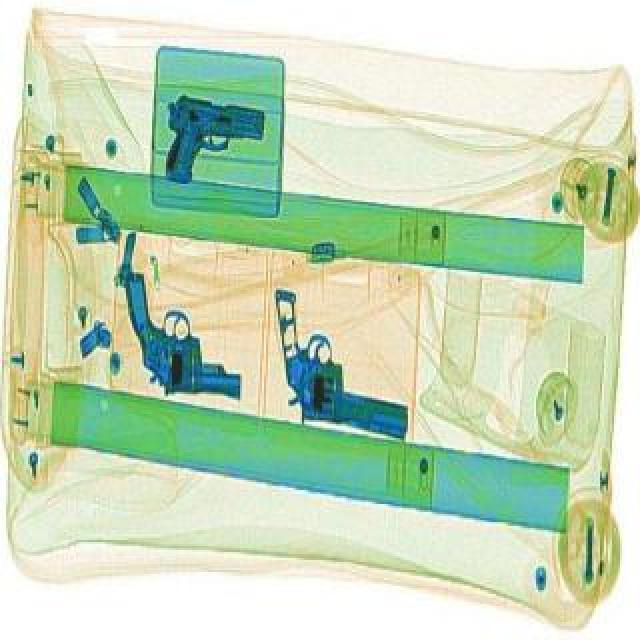gun: (250, 294, 434, 444), (130, 276, 246, 402), (156, 96, 272, 204)
